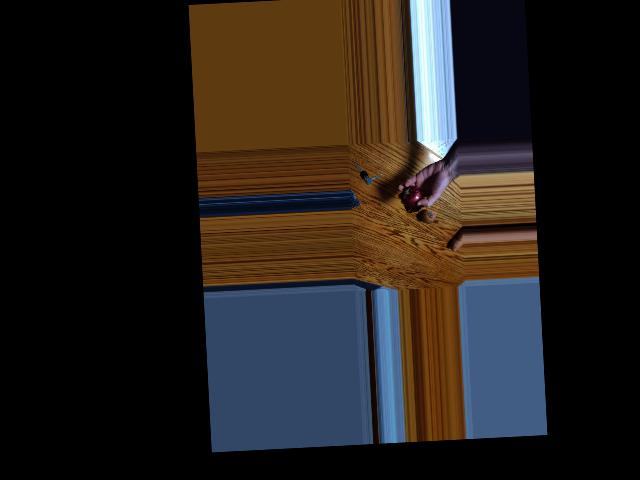onion: (401, 186, 422, 208)
